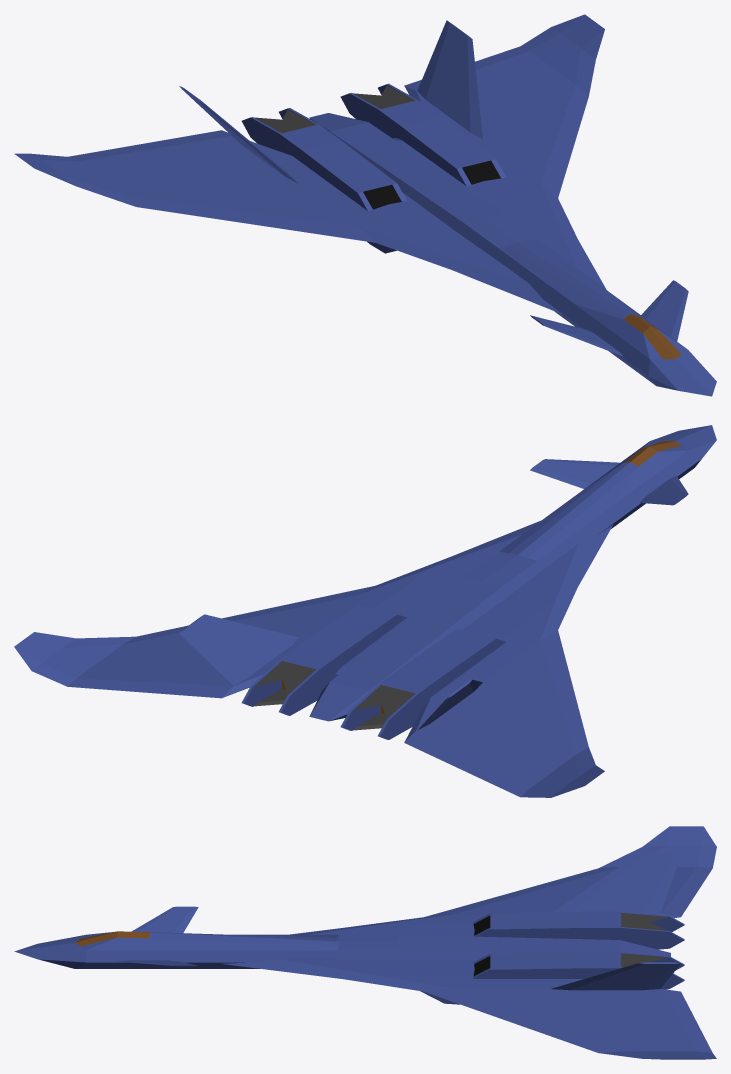
The picture shows the model from 3 angles, top to bottom: view 1: azimuth 30°, elevation 25°; view 2: azimuth 150°, elevation 25°; view 3: azimuth 270°, elevation 25°; orthographic projection. The views are drawn at different scales.
Visible parts, largest first — view 1: Cube.003, Cube.002, Cube, Cube.005, Cube.004; view 2: Cube.003, Cube.002, Cube, Cube.005, Cube.004; view 3: Cube.003, Cube.002, Cube, Cube.005, Cube.004.
Boxes of the visible parts, x1,y1,x2,y2 form: Cube.003: [14, 14, 606, 313]; Cube.002: [309, 113, 716, 396]; Cube: [241, 83, 506, 253]; Cube.005: [179, 20, 482, 183]; Cube.004: [530, 280, 688, 356]; Cube.003: [14, 520, 613, 797]; Cube.002: [309, 425, 716, 721]; Cube: [241, 605, 505, 739]; Cube.005: [179, 614, 482, 729]; Cube.004: [530, 459, 688, 505]; Cube.003: [221, 826, 716, 1059]; Cube.002: [14, 931, 670, 968]; Cube: [420, 911, 684, 1004]; Cube.005: [551, 853, 681, 990]; Cube.004: [117, 906, 198, 966].
Size of the model in its own units: 36.21 by 5 by 46.21.
